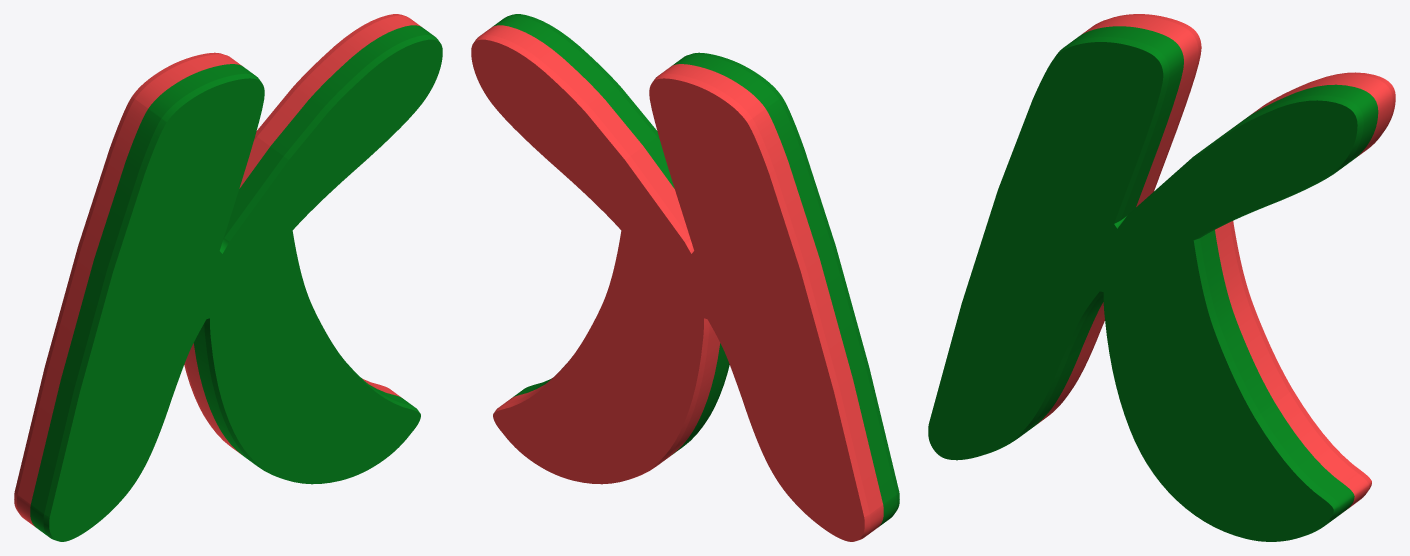
Rendered from letterK.obj.
3 views of the same model, side by side, from view 1: azimuth 30°, elevation 25°; view 2: azimuth 150°, elevation 25°; view 3: azimuth 330°, elevation 25° (orthographic). The views are drawn at different scales.
Visible parts, largest first — view 1: K2; view 2: K2; view 3: K2.
Part boxes in pixels (x1,y1,x2,y2): K2: [14, 14, 442, 541]; K2: [471, 14, 899, 541]; K2: [928, 14, 1395, 541].
Bounding box in the file's own units: 136 × 140 × 20.75.
